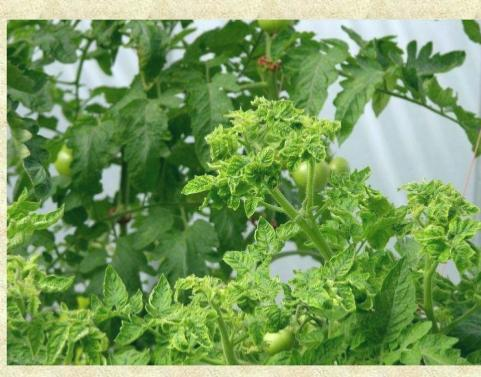Tomato leaf yellow virus: (92, 260, 128, 309), (322, 240, 363, 278), (183, 306, 215, 352), (22, 200, 69, 231), (146, 273, 175, 323), (292, 277, 331, 313), (175, 172, 221, 198), (37, 270, 79, 298), (410, 225, 442, 258), (254, 215, 276, 261), (444, 219, 481, 246), (217, 250, 254, 275), (229, 290, 264, 316), (281, 135, 305, 163), (310, 134, 327, 172), (221, 156, 248, 179), (208, 131, 230, 155), (252, 145, 274, 169), (270, 301, 287, 331)
